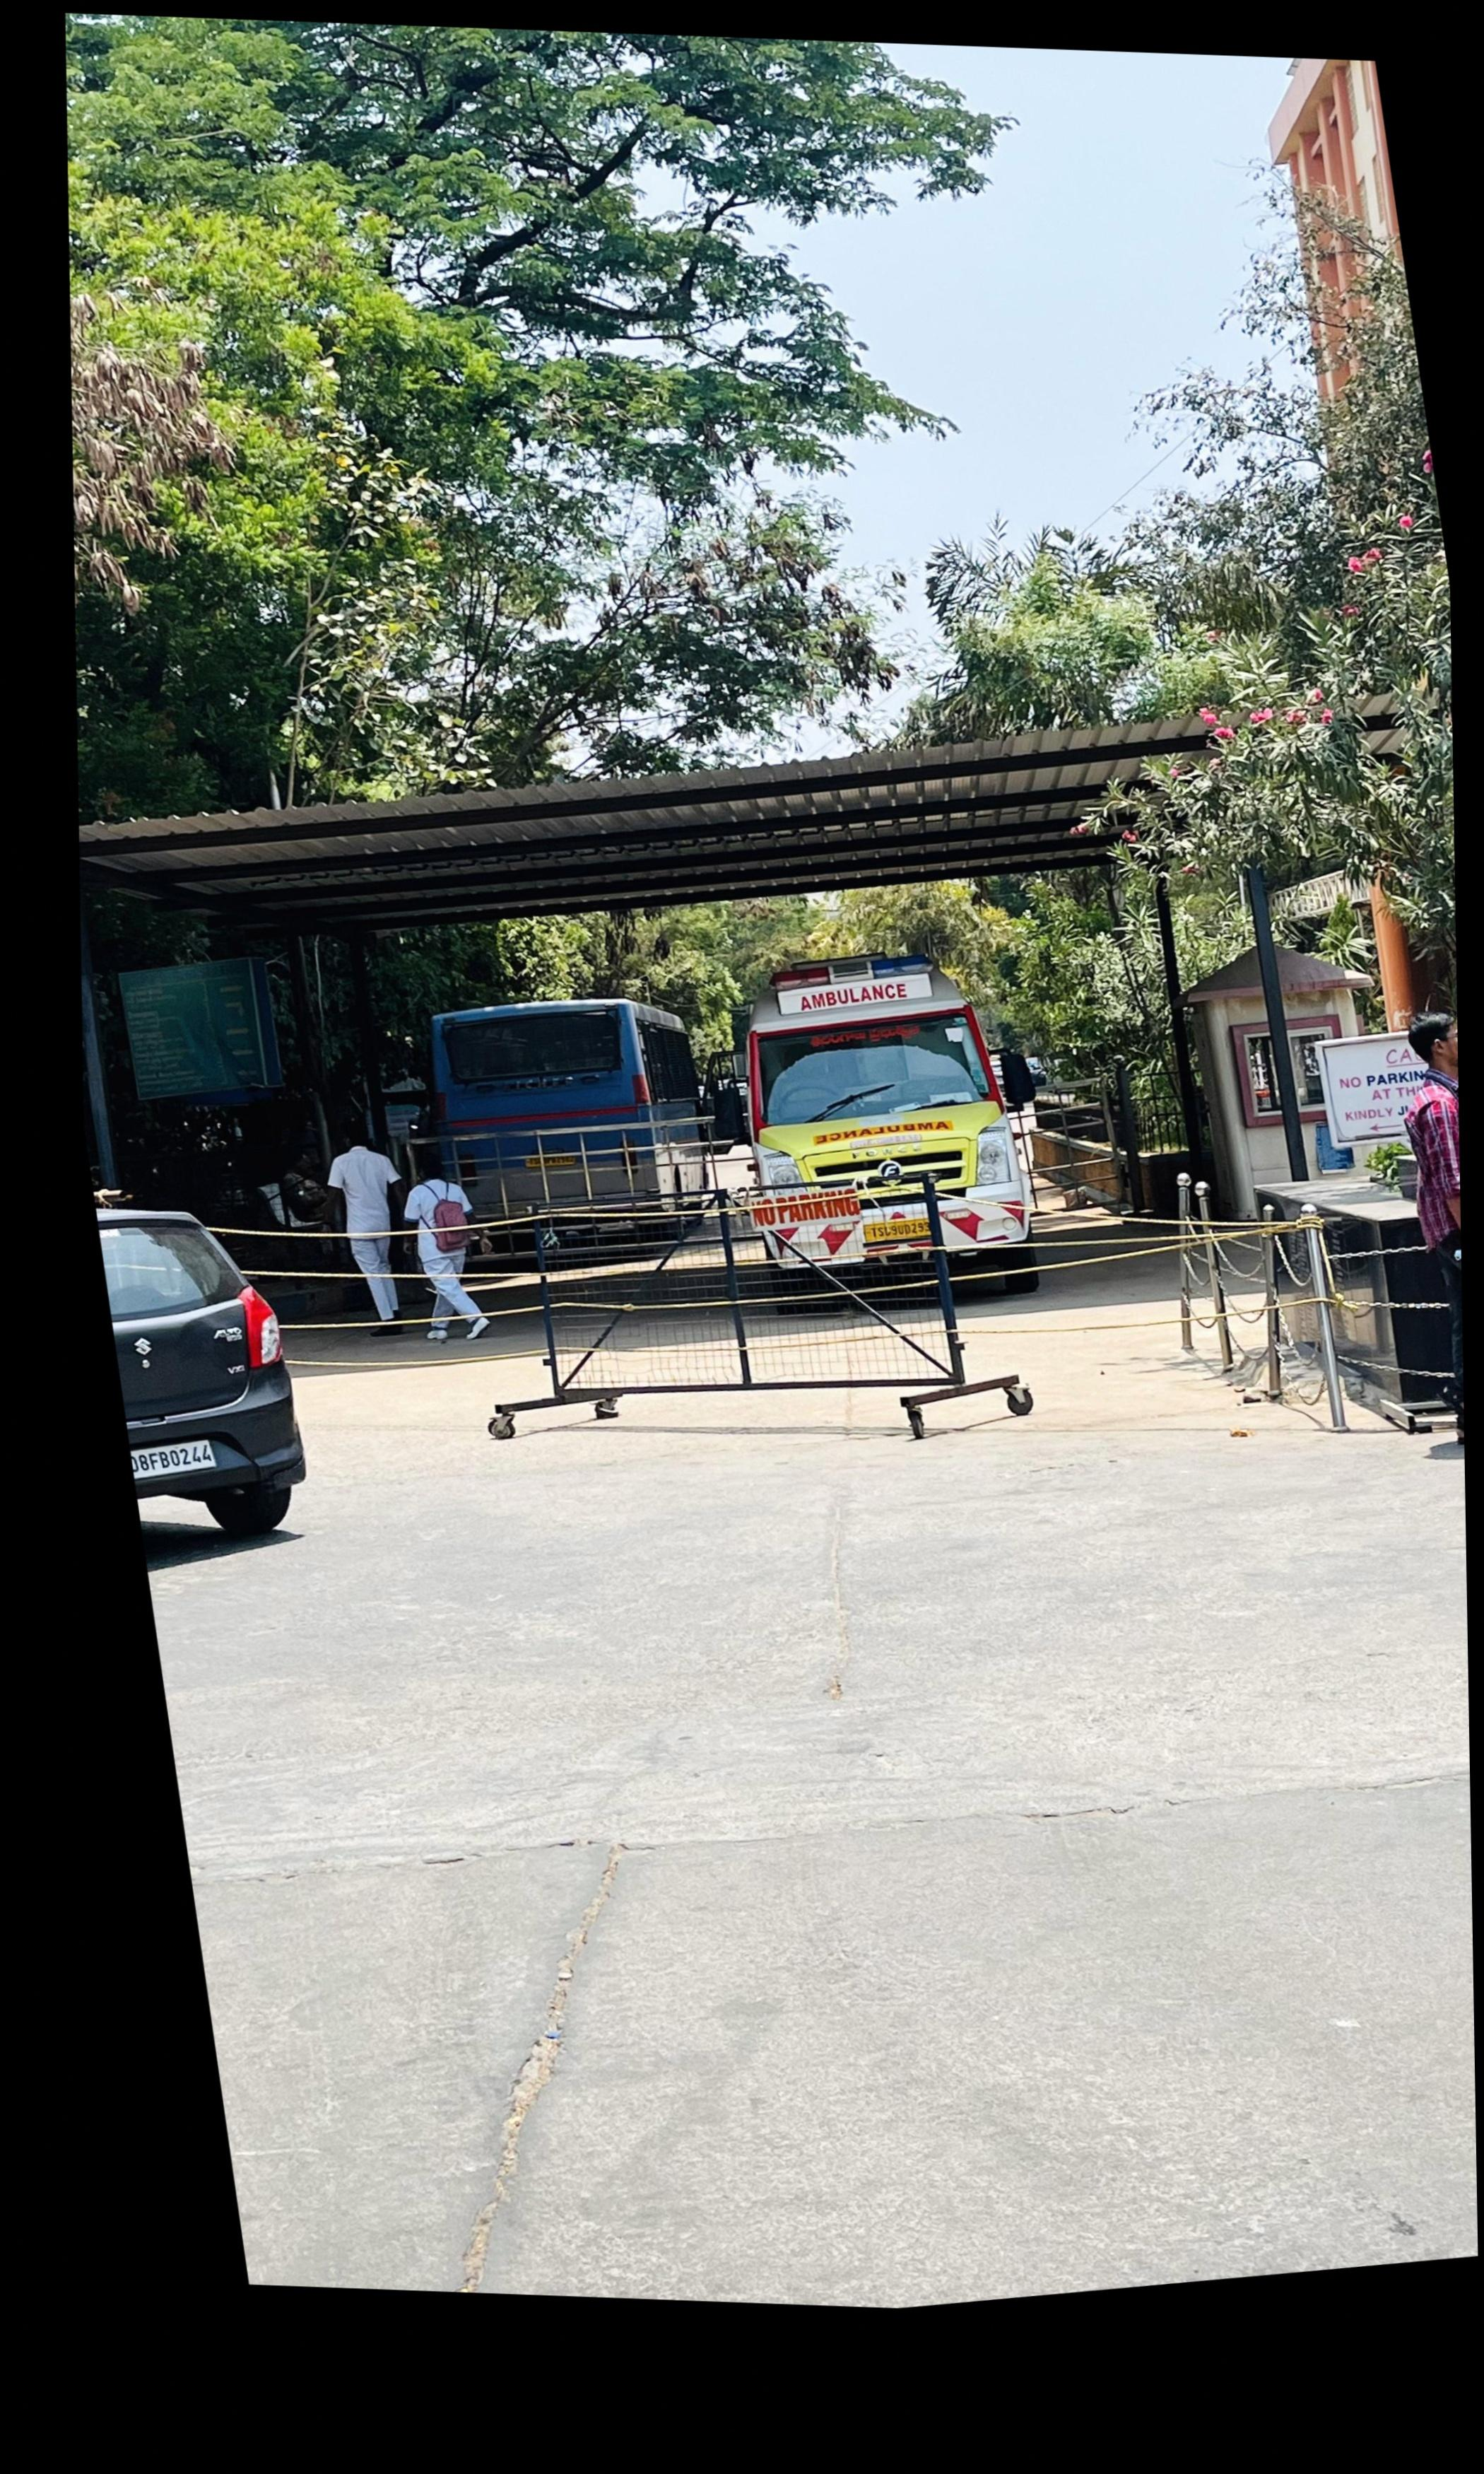ambulance: (701, 963, 1035, 1315)
